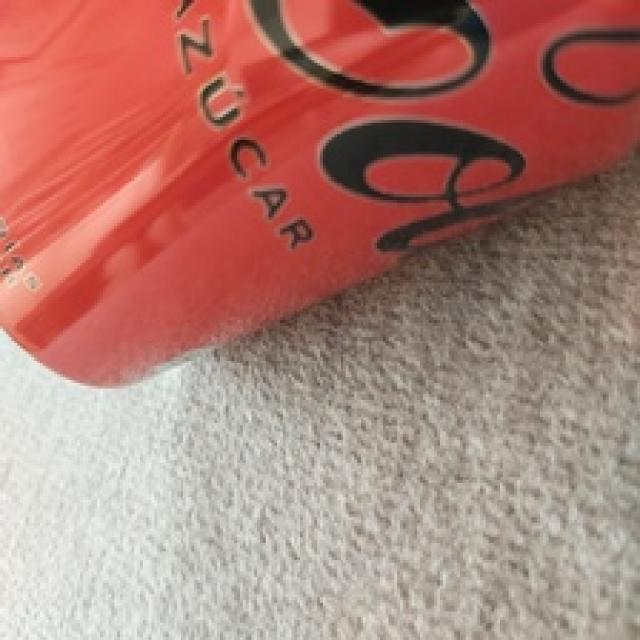recyclable: (0, 0, 640, 389)
